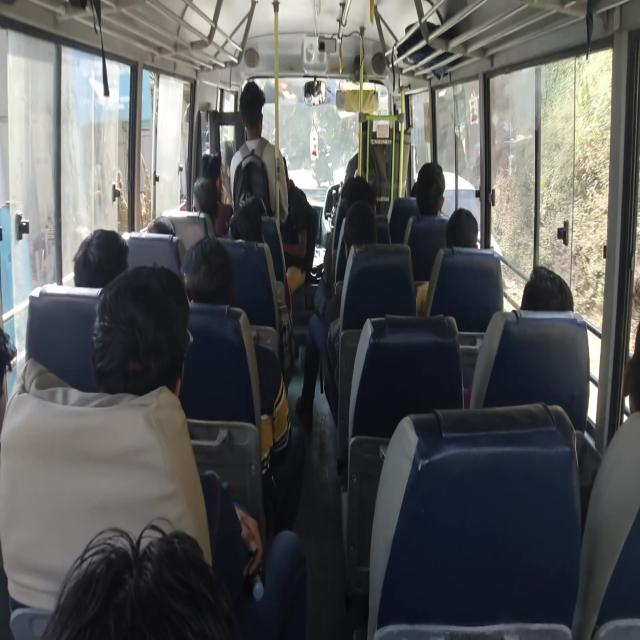person: (1, 260, 306, 638), (90, 264, 264, 586), (180, 236, 299, 533), (41, 517, 238, 639), (571, 321, 639, 638), (466, 264, 590, 434), (295, 199, 378, 428), (229, 80, 317, 292), (91, 264, 192, 398), (229, 80, 289, 221), (415, 207, 479, 315), (192, 150, 233, 237), (72, 228, 130, 288), (520, 265, 574, 311), (414, 161, 446, 217), (445, 207, 479, 248)
